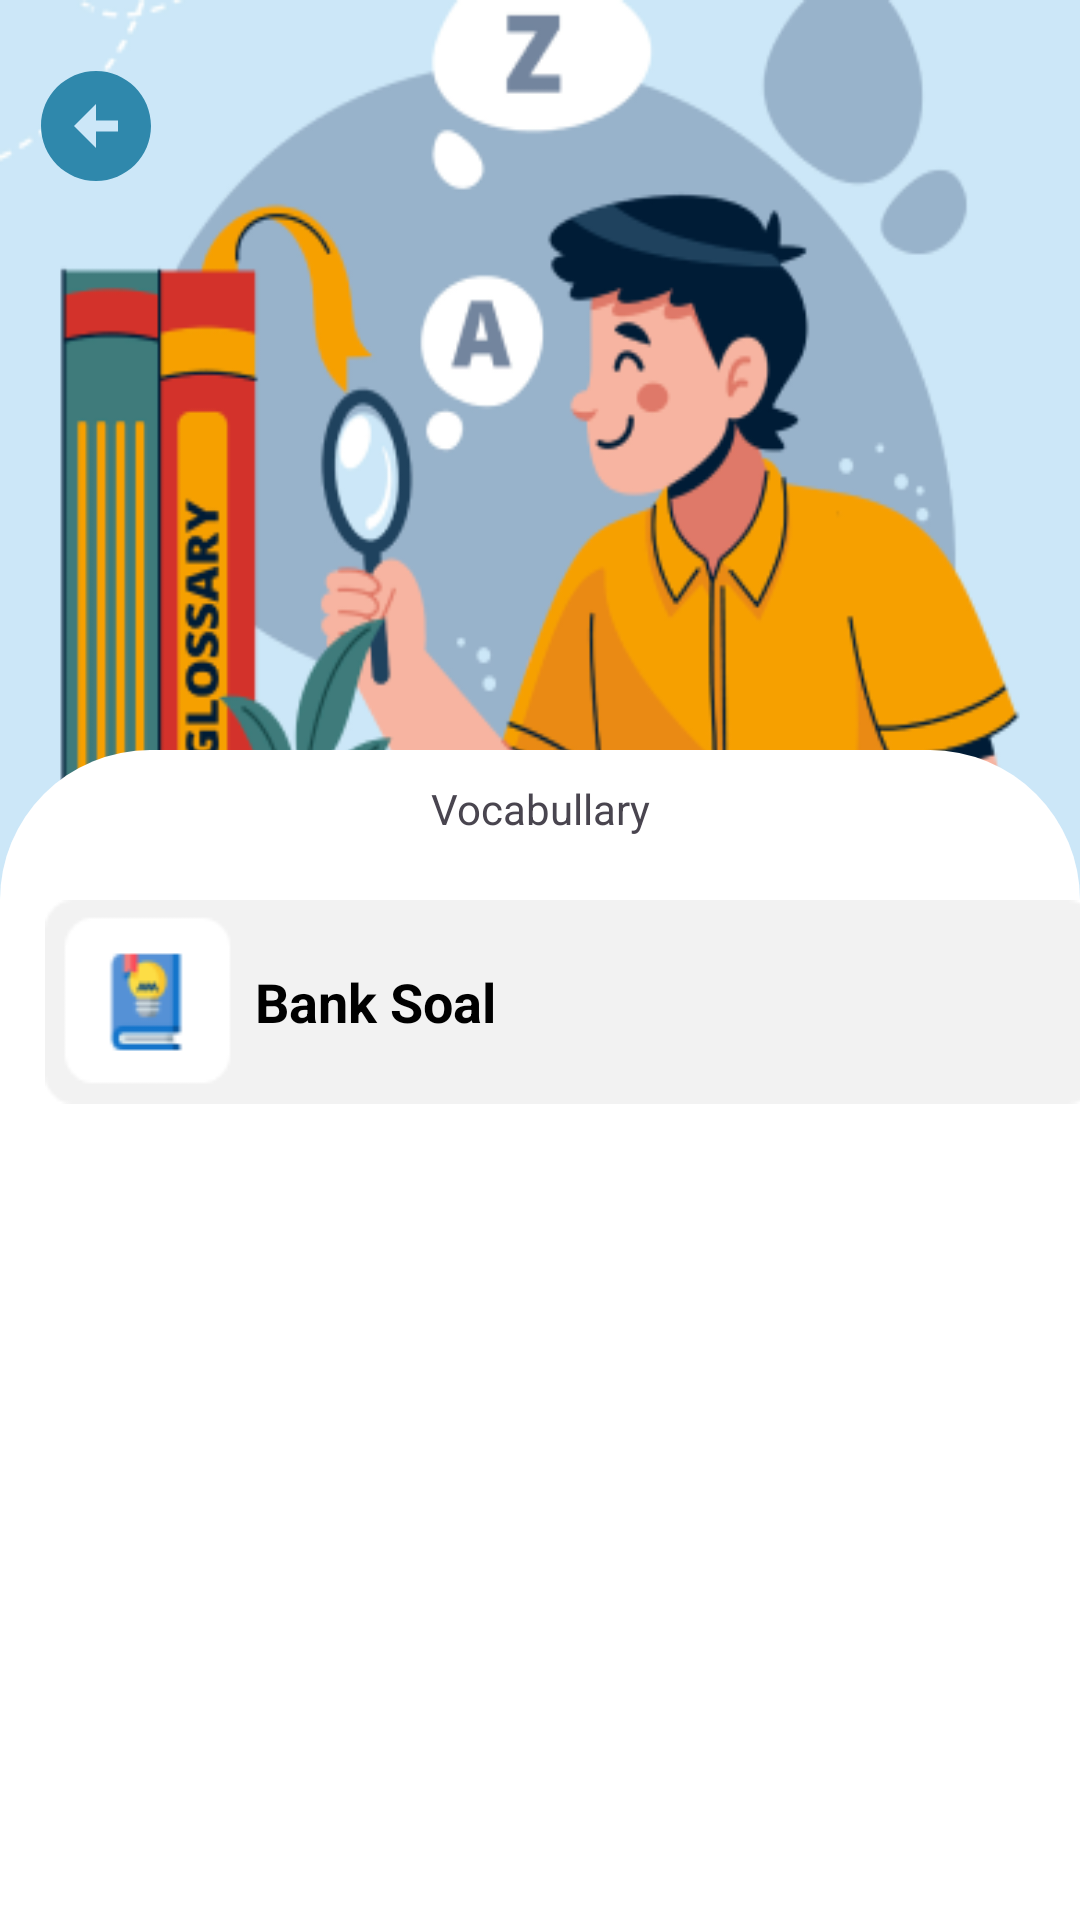

Icons on this 1080x1920 Android screen, each with its box as box(x1, y1, x2, y2):
arrow back: box(39, 60, 151, 181)
